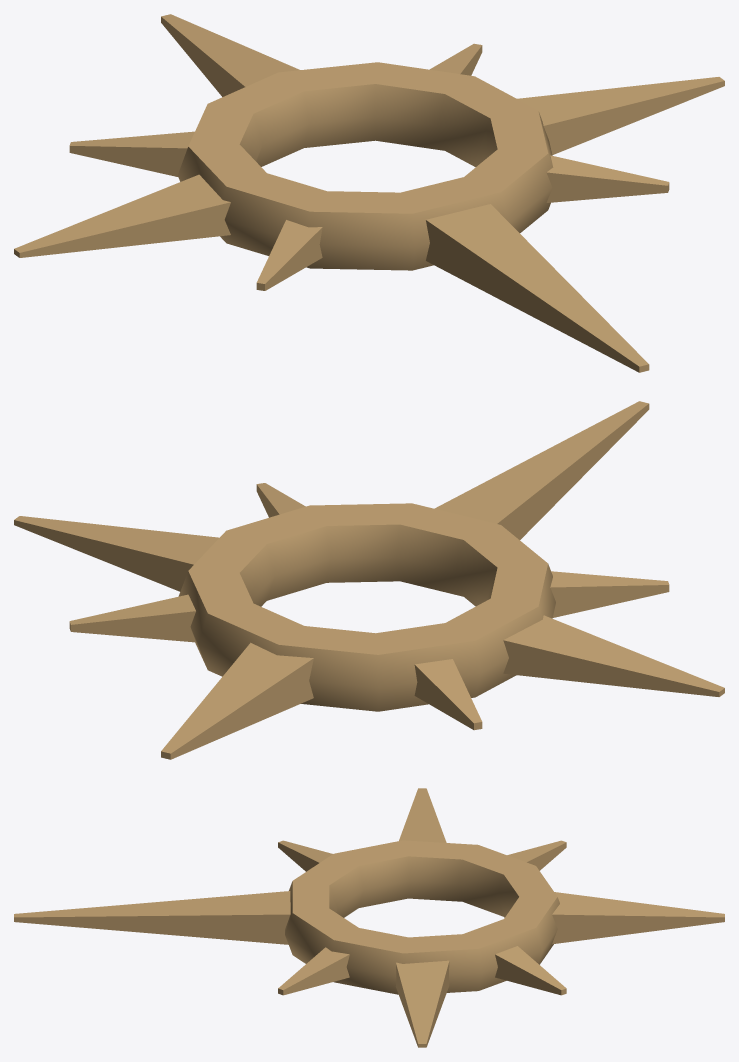
File: SunCross.fbx
The picture shows the model from 3 angles, top to bottom: view 1: azimuth 30°, elevation 25°; view 2: azimuth 150°, elevation 25°; view 3: azimuth 270°, elevation 25°; orthographic projection. The views are drawn at different scales.
Parts seen in each view (by area): view 1: Torus; view 2: Torus; view 3: Torus.
Part boxes in pixels (x1,y1,x2,y2): Torus: (14,14,724,372); Torus: (14,401,724,759); Torus: (14,788,724,1047).
Bounding box in the file's own units: 15.64 × 1.2 × 18.37.
